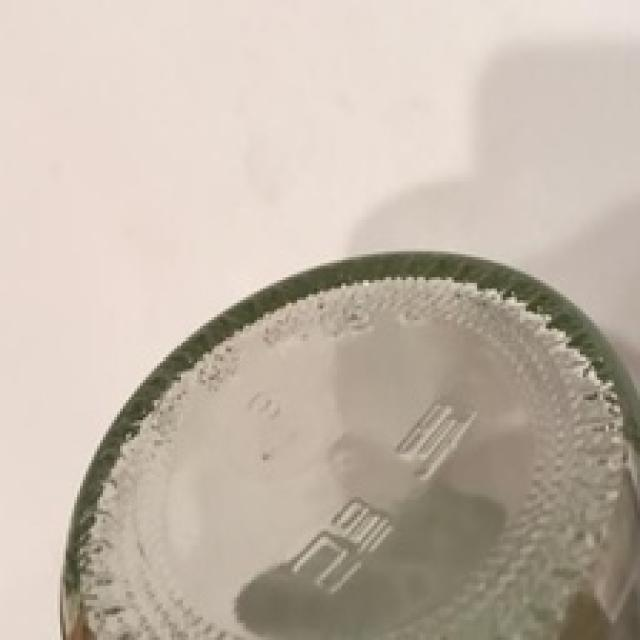Glass: (55, 249, 640, 640)
